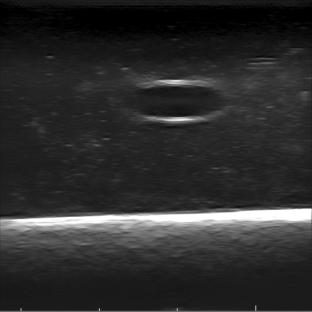vessel: (124, 79, 228, 123)
